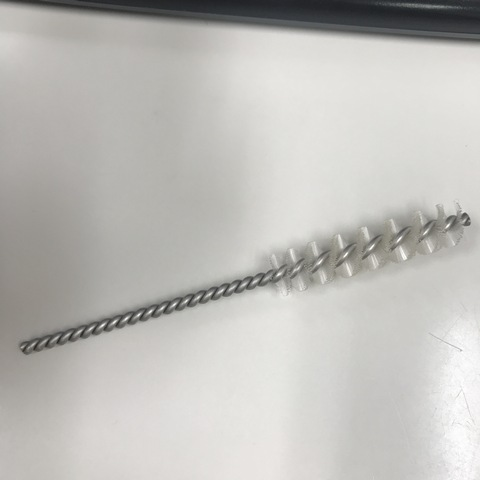Twist Brush-B: (18, 196, 474, 357)
